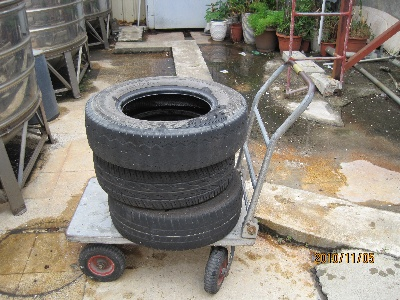bowl: (210, 20, 228, 42)
bucket: (241, 12, 258, 44)
tire: (84, 75, 250, 173), (106, 167, 242, 250), (92, 152, 235, 210)
